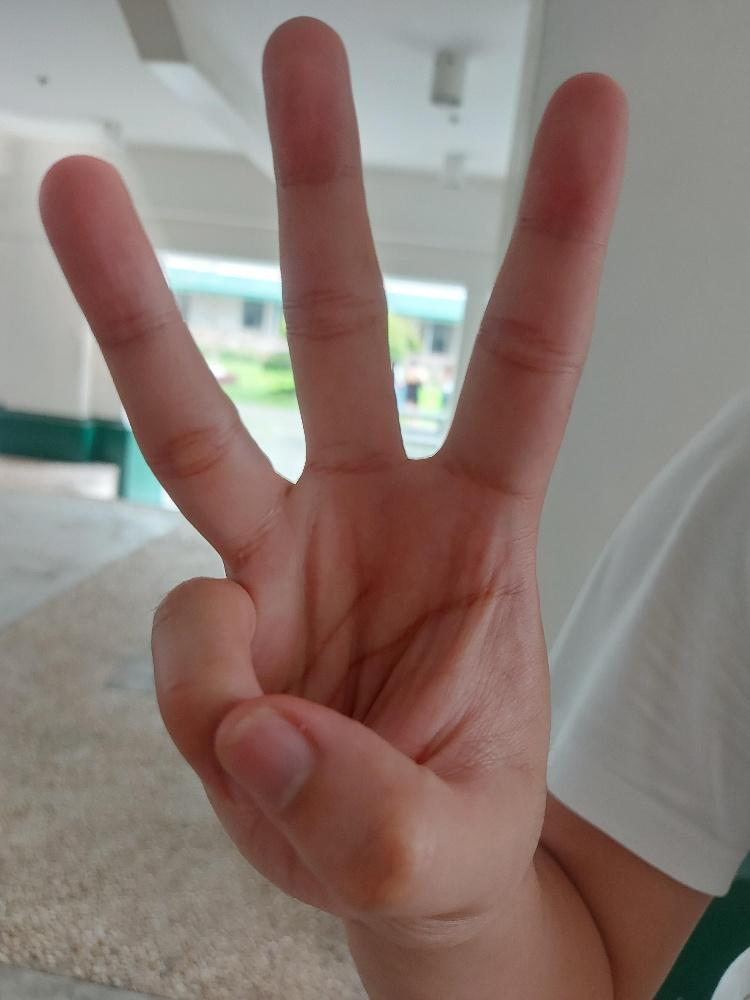w: (33, 16, 630, 944)
